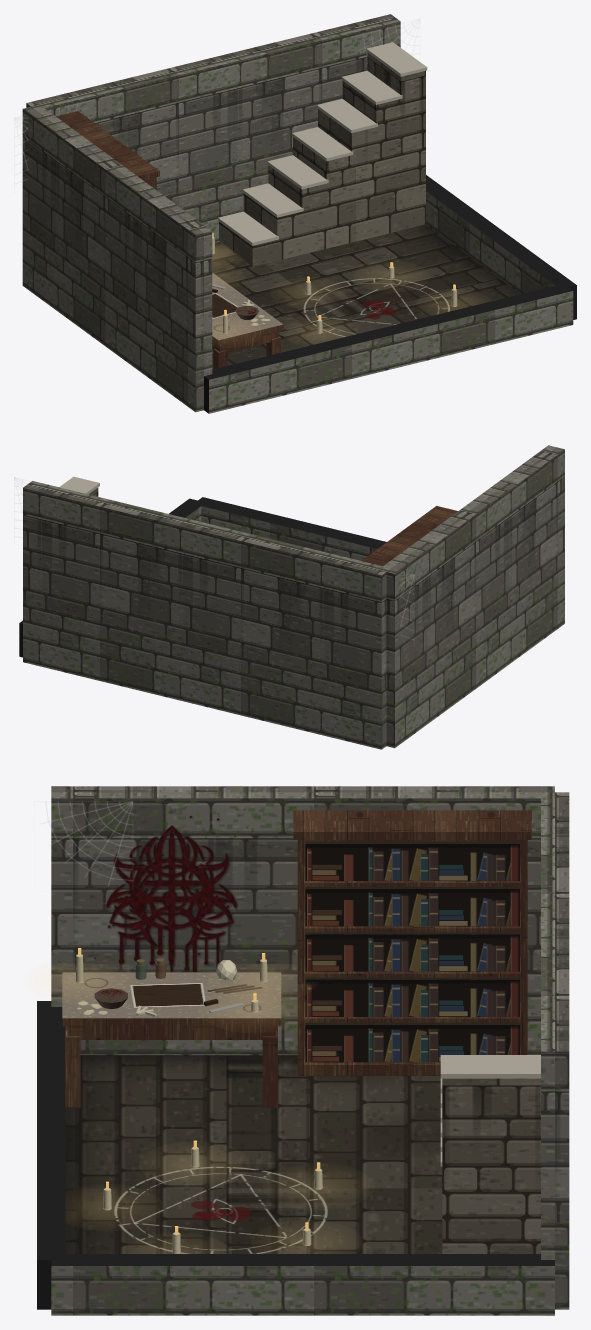
The model's file is subsolo.glb.
The picture shows the model from 3 angles, top to bottom: view 1: azimuth 30°, elevation 25°; view 2: azimuth 150°, elevation 25°; view 3: azimuth 270°, elevation 25°; orthographic projection. The views are drawn at different scales.
Size of what is drawn, in the model's own units: 6.25 by 2.6 by 5.14.
Materials: 78 (22 with a texture image).
